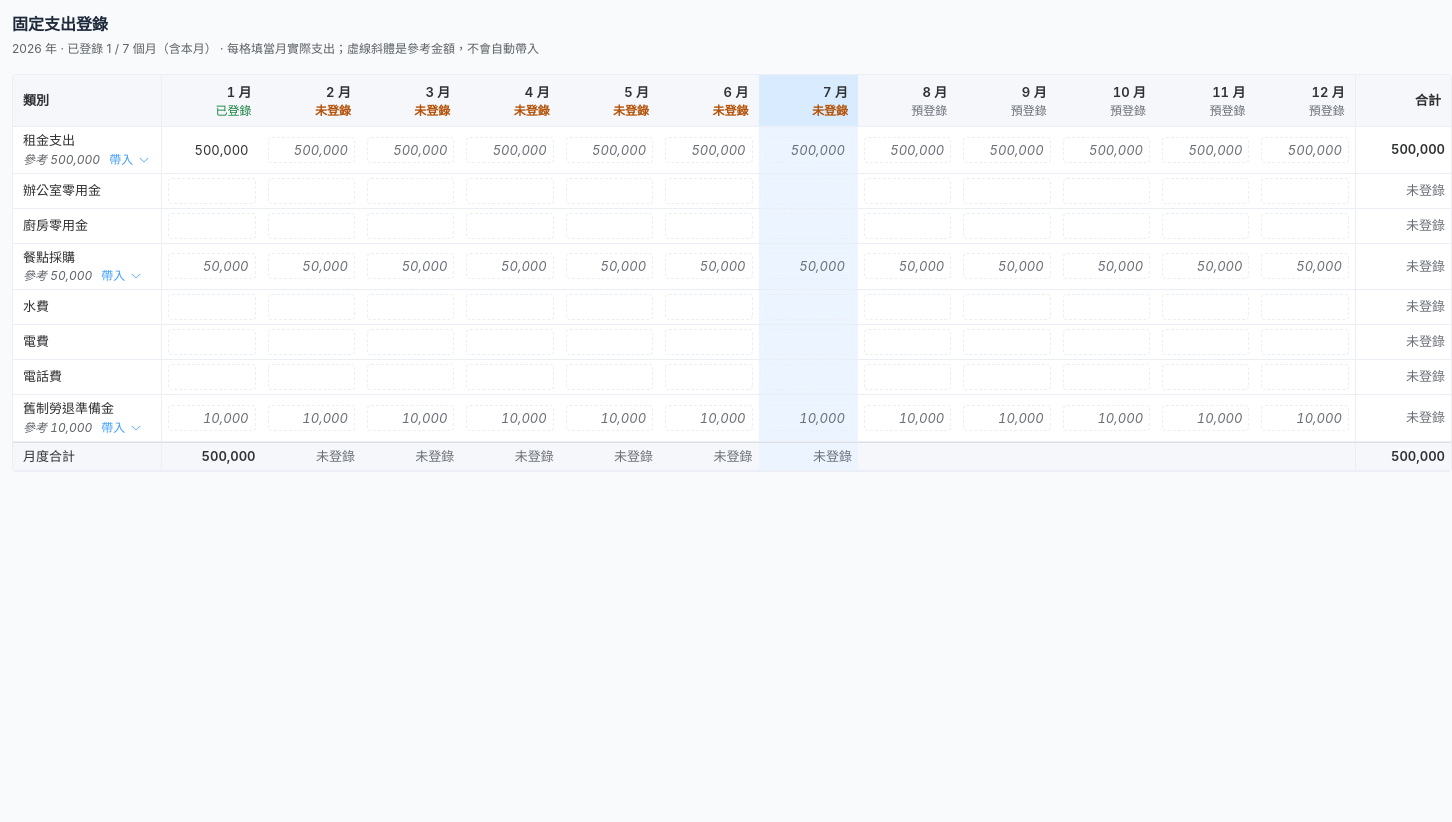
Test: 底部儲存列 › 沒有修改時不出現；有修改才出現並顯示格數與類別月份
Type "1" into the 6th field with placeholder "500,000". click: (808, 150)
box: [764,137,852,163]
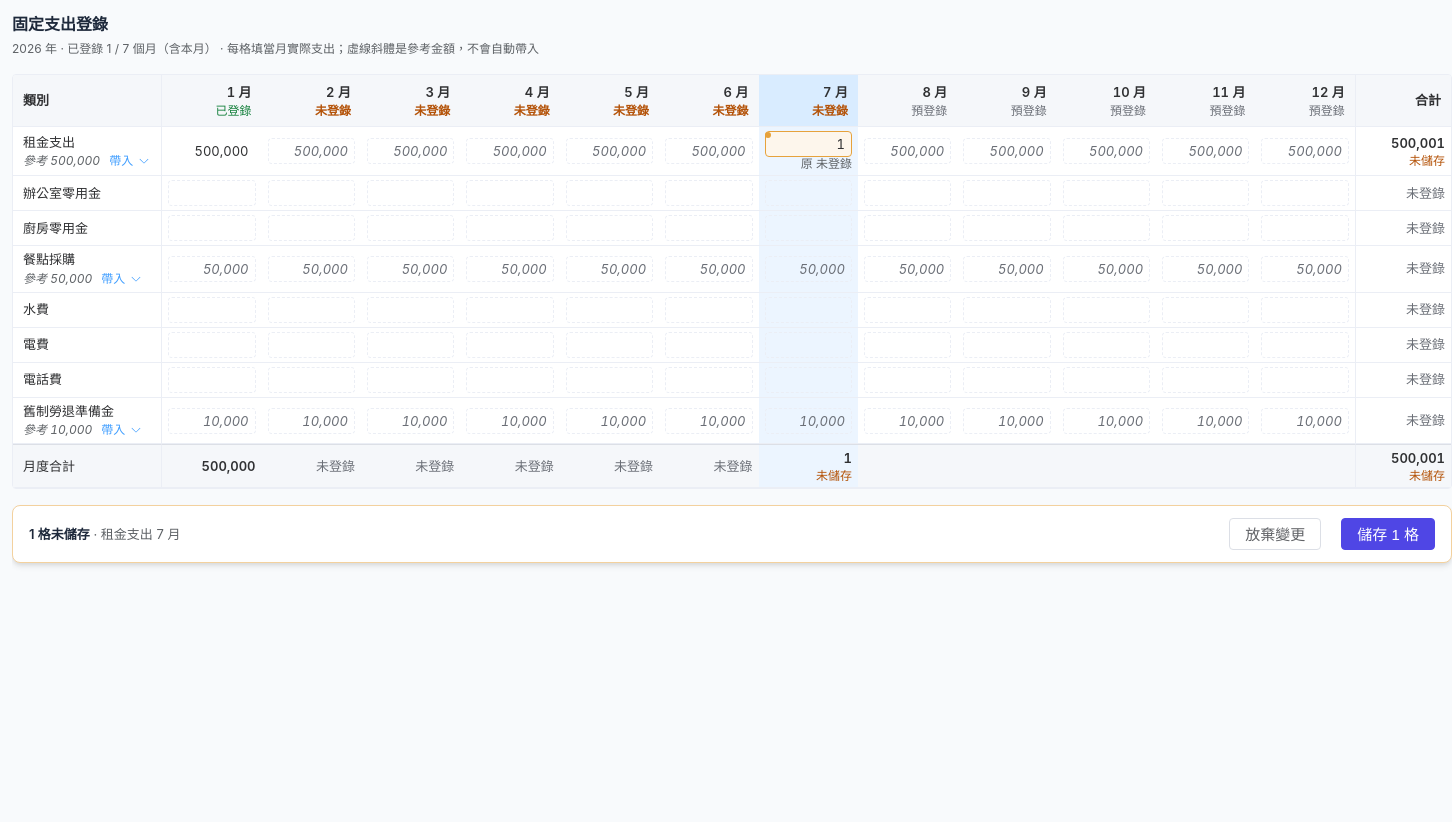
Type "2" into the 6th field with placeholder "500,000". click: (908, 151)
box: [864,138,951,164]
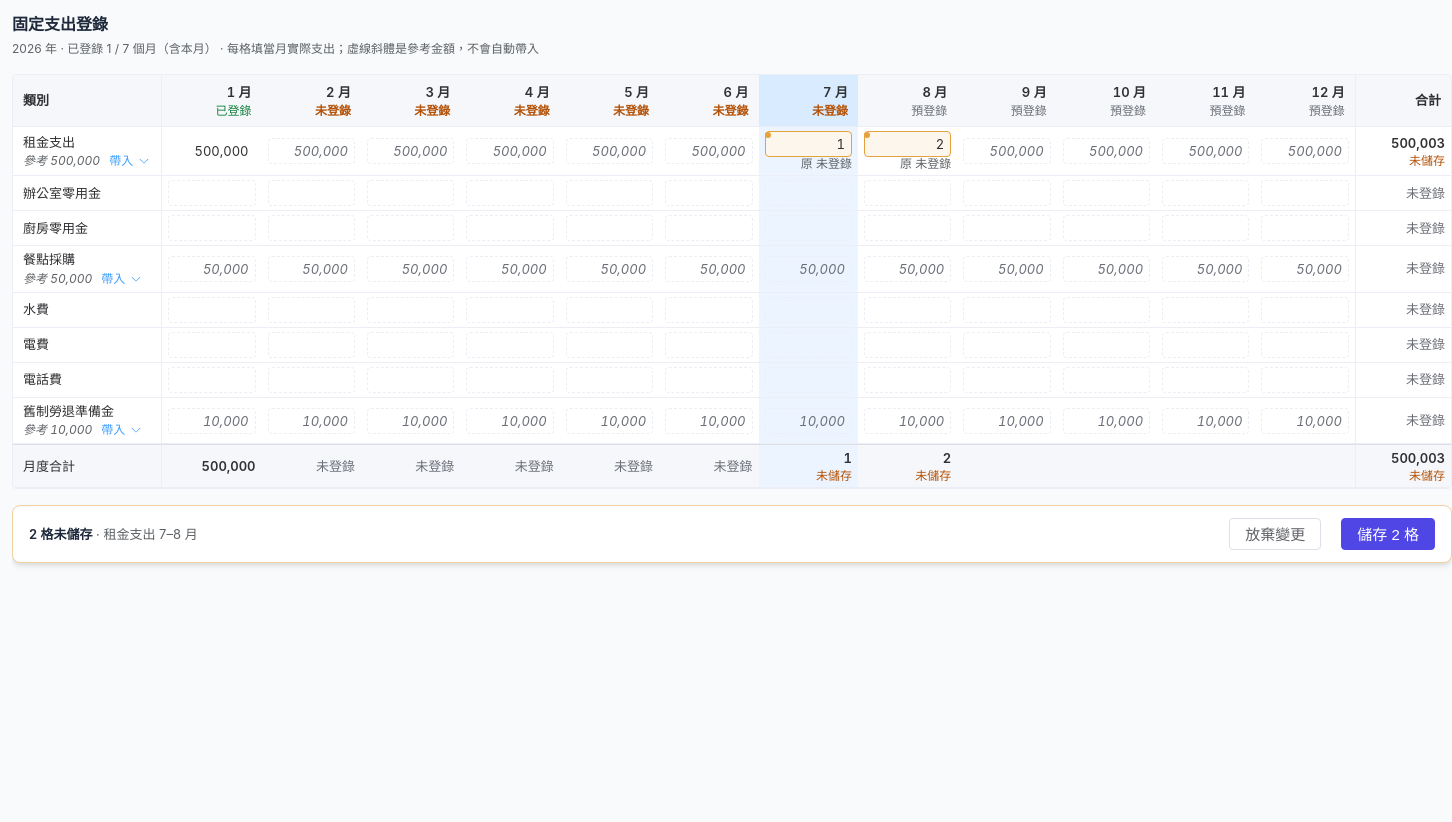
Type "3" into the 6th field with placeholder "500,000". click: (1007, 151)
box: [963,138,1051,164]
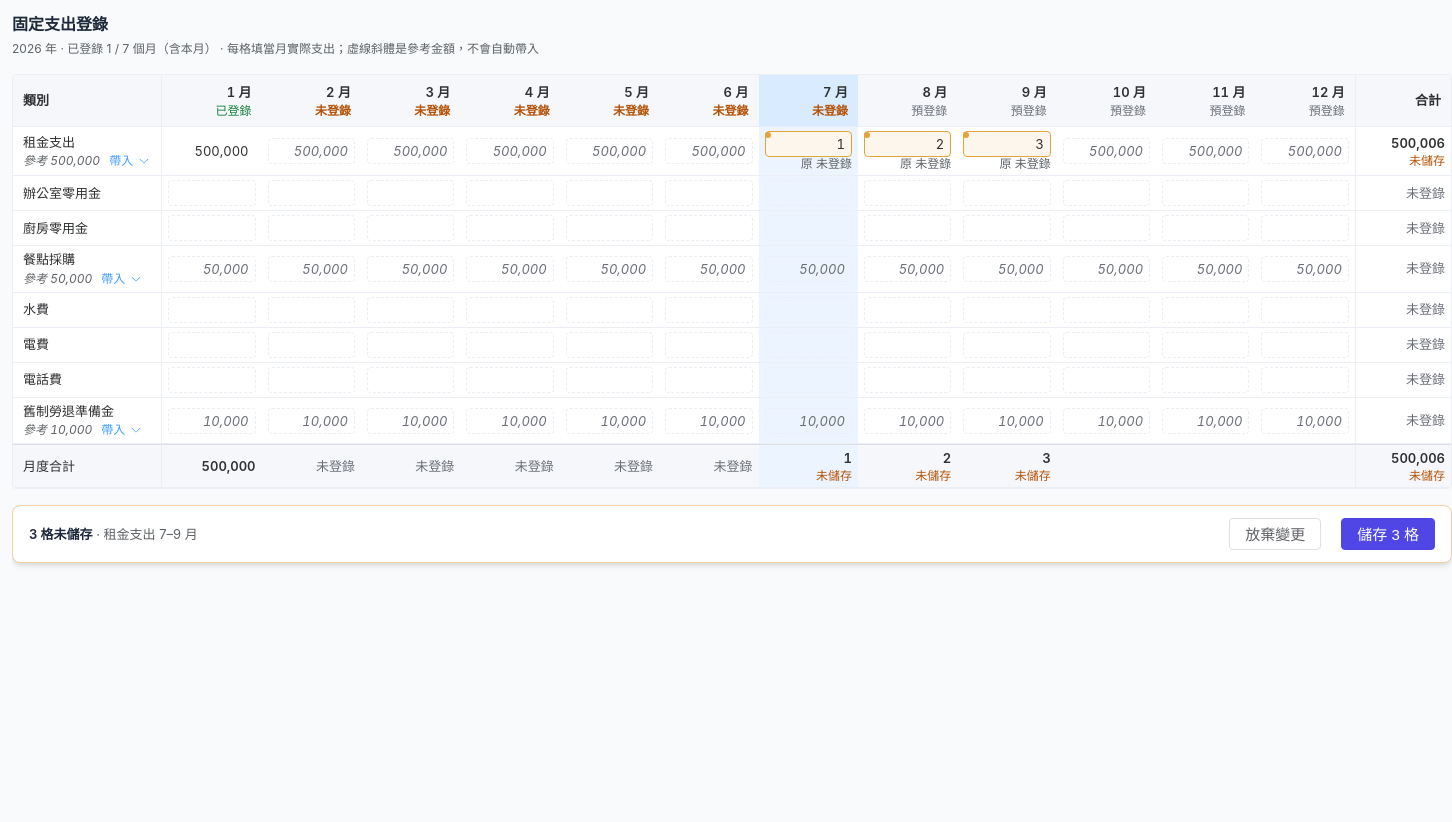
Type "4" into the 9th field with placeholder "50,000". click: (1007, 269)
box: [963,256,1051,282]
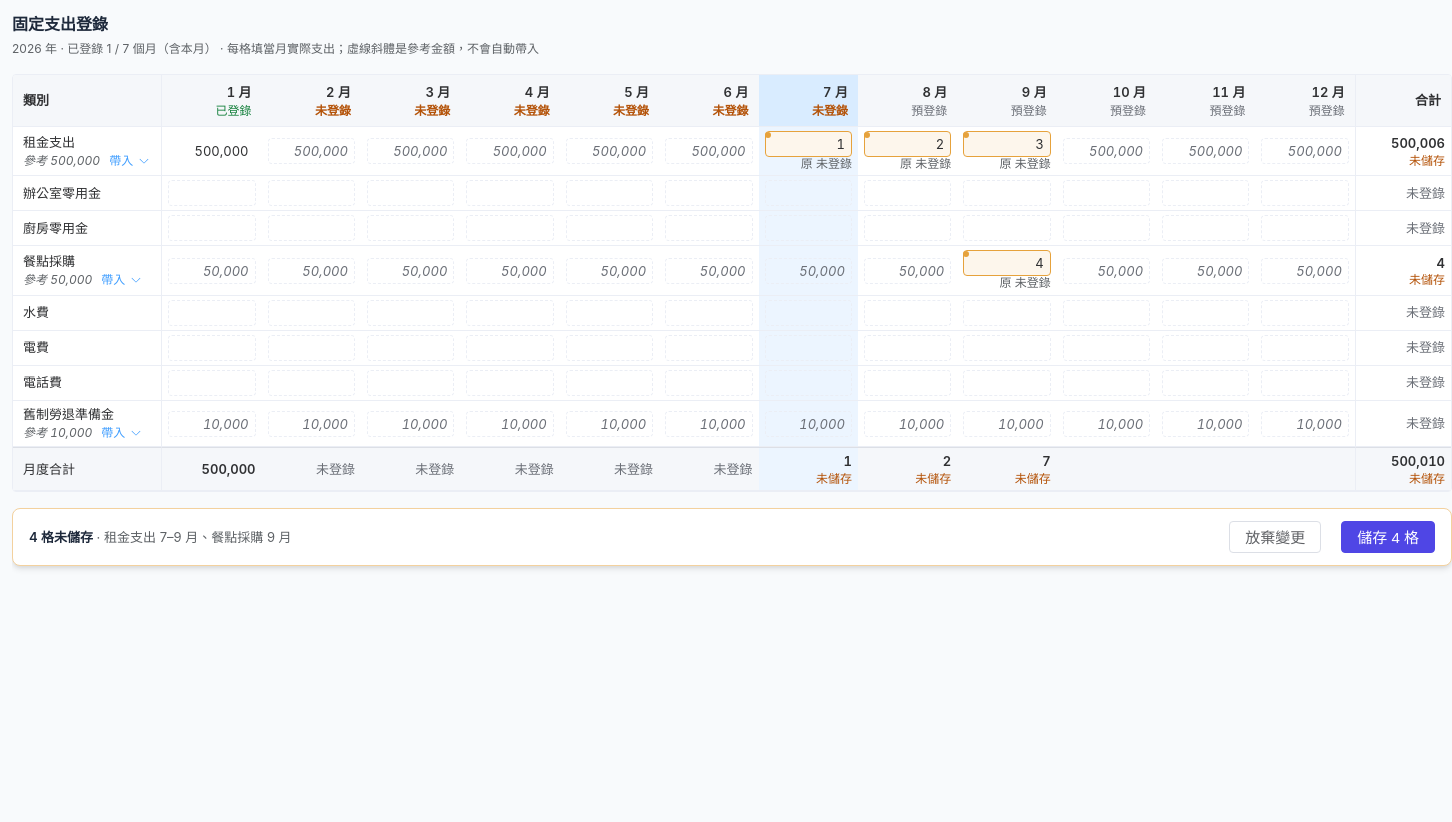
Expected: the element with test id "save-bar" is shown, [12,508,1451,566]
Expected: the text with test id "dirty-count" reads "4 格未儲存", [29,528,93,544]
Expected: the element with test id "save-bar" shows "租金支出 7–9 月、餐點採購 9 月", [93,528,292,544]
